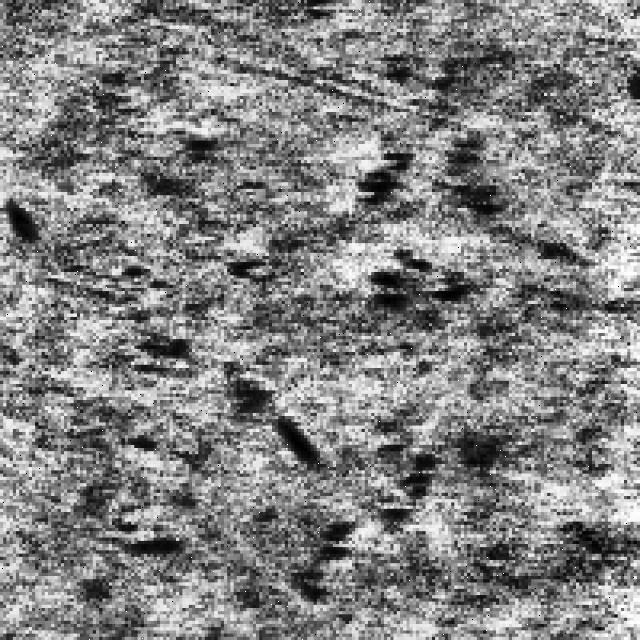Crazing: (96, 250, 301, 570), (356, 118, 508, 310), (307, 442, 445, 598)
